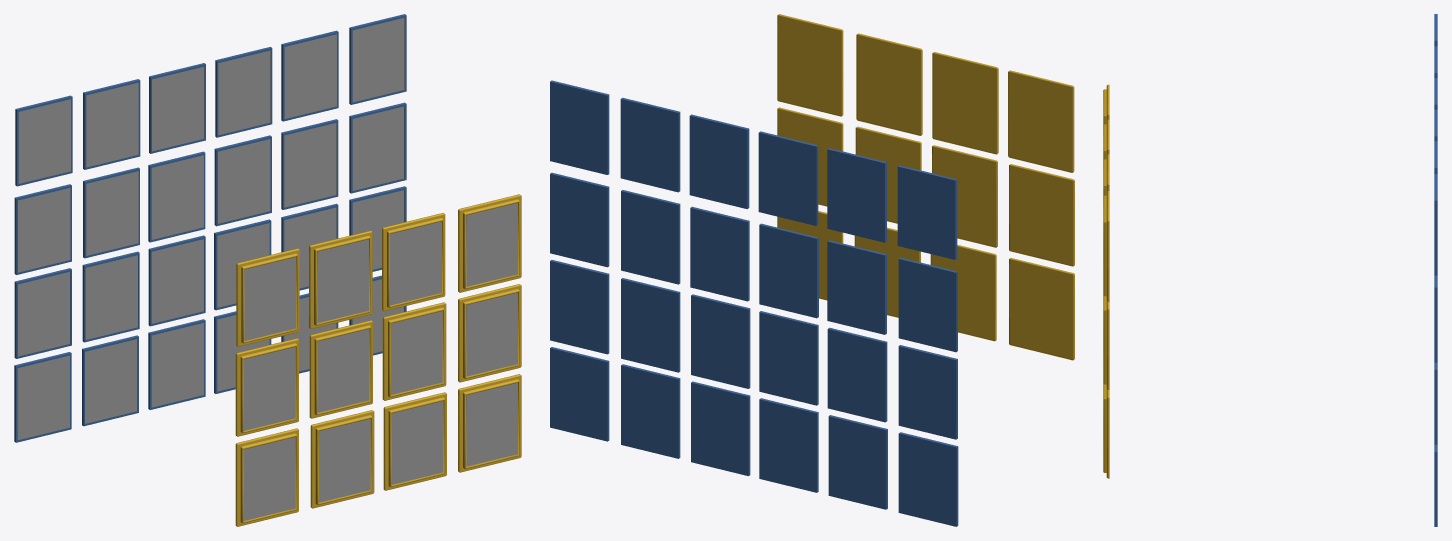
Rendered from posters poppy playtime.fbx.
3 renders of one model, left to right at view 1: azimuth 30°, elevation 25°; view 2: azimuth 150°, elevation 25°; view 3: azimuth 270°, elevation 25°, orthographic. The views are drawn at different scales.
Visible parts, largest first — view 1: pasted__pasted__pasted__pasted__pasted__pasted__pasted__past (×35), pasted__pasted__pasted__pasted__pasted__pCube3 (×5), pasted__pasted__pasted__pasted__pasted__pasted__pasted__pCub (×6), pasted__pasted__pasted__pasted__pasted__pasted__pCube3 (×4), pasted__pasted__pasted__pCube3 (×4), pasted__pasted__pCube3 (×3), pasted__pasted__pasted__pasted__pCube3 (×4), pasted__pCube3 (×2), pCube3, pasted__pasted__pasted__pasted__pasted__pCube1 (×2), pasted__pasted__pasted__pasted__pasted__pasted__pCube1 (×2), pasted__pasted__pasted__pasted__pasted__pCube4 (+10 smaller); view 2: pasted__pasted__pasted__pasted__pasted__pasted__pasted__past (×20), pasted__pasted__pasted__pasted__pasted__pasted__pasted__pCub (×2), pasted__pasted__pCube4, pasted__pasted__pasted__pCube4, pCube1, pasted__pasted__pasted__pasted__pasted__pasted__pCube1, pasted__pCube1, pasted__pasted__pasted__pasted__pasted__pCube1, pasted__pasted__pasted__pCube1, pasted__pasted__pCube1, pasted__pasted__pasted__pasted__pCube1, pasted__pasted__pasted__pasted__pCube4 (+4 smaller); view 3: pasted__pasted__pasted__pasted__pasted__pasted__pasted__past (×3).
Part boxes in pixels (x1,y1,x2,y2): pasted__pasted__pasted__pasted__pasted__pasted__pasted__past (×35): (14, 14, 521, 469); pasted__pasted__pasted__pasted__pasted__pCube3 (×5): (152, 66, 443, 484); pasted__pasted__pasted__pasted__pasted__pasted__pasted__pCub (×6): (14, 34, 521, 523); pasted__pasted__pasted__pasted__pasted__pasted__pCube3 (×4): (218, 50, 404, 502); pasted__pasted__pasted__pCube3 (×4): (18, 99, 269, 391); pasted__pasted__pCube3 (×3): (18, 188, 203, 407); pasted__pasted__pasted__pasted__pCube3 (×4): (86, 82, 336, 371); pasted__pCube3 (×2): (18, 272, 137, 423); pCube3: (17, 355, 69, 440); pasted__pasted__pasted__pasted__pasted__pCube1 (×2): (148, 235, 445, 487); pasted__pasted__pasted__pasted__pasted__pasted__pCube1 (×2): (82, 251, 372, 504); pasted__pasted__pasted__pasted__pasted__pCube4: (382, 302, 446, 400); pasted__pasted__pasted__pasted__pasted__pasted__pasted__past (×20): (550, 14, 1074, 458); pasted__pasted__pasted__pasted__pasted__pasted__pasted__pCub (×2): (777, 211, 957, 439); pasted__pasted__pCube4: (1009, 258, 1074, 360); pasted__pasted__pasted__pCube4: (1009, 164, 1074, 266); pCube1: (898, 432, 958, 526); pasted__pasted__pasted__pasted__pasted__pasted__pCube1: (827, 327, 887, 422); pasted__pCube1: (828, 415, 887, 509); pasted__pasted__pasted__pasted__pasted__pCube1: (759, 311, 818, 405); pasted__pasted__pasted__pCube1: (691, 381, 750, 476); pasted__pasted__pCube1: (759, 398, 818, 492); pasted__pasted__pasted__pasted__pCube1: (691, 294, 750, 388); pasted__pasted__pasted__pasted__pCube4: (932, 145, 997, 247); pasted__pasted__pasted__pasted__pasted__pasted__pasted__past (×3): (1103, 174, 1437, 301).
Size of the model in its own units: 4.82 by 3.92 by 3.64.
